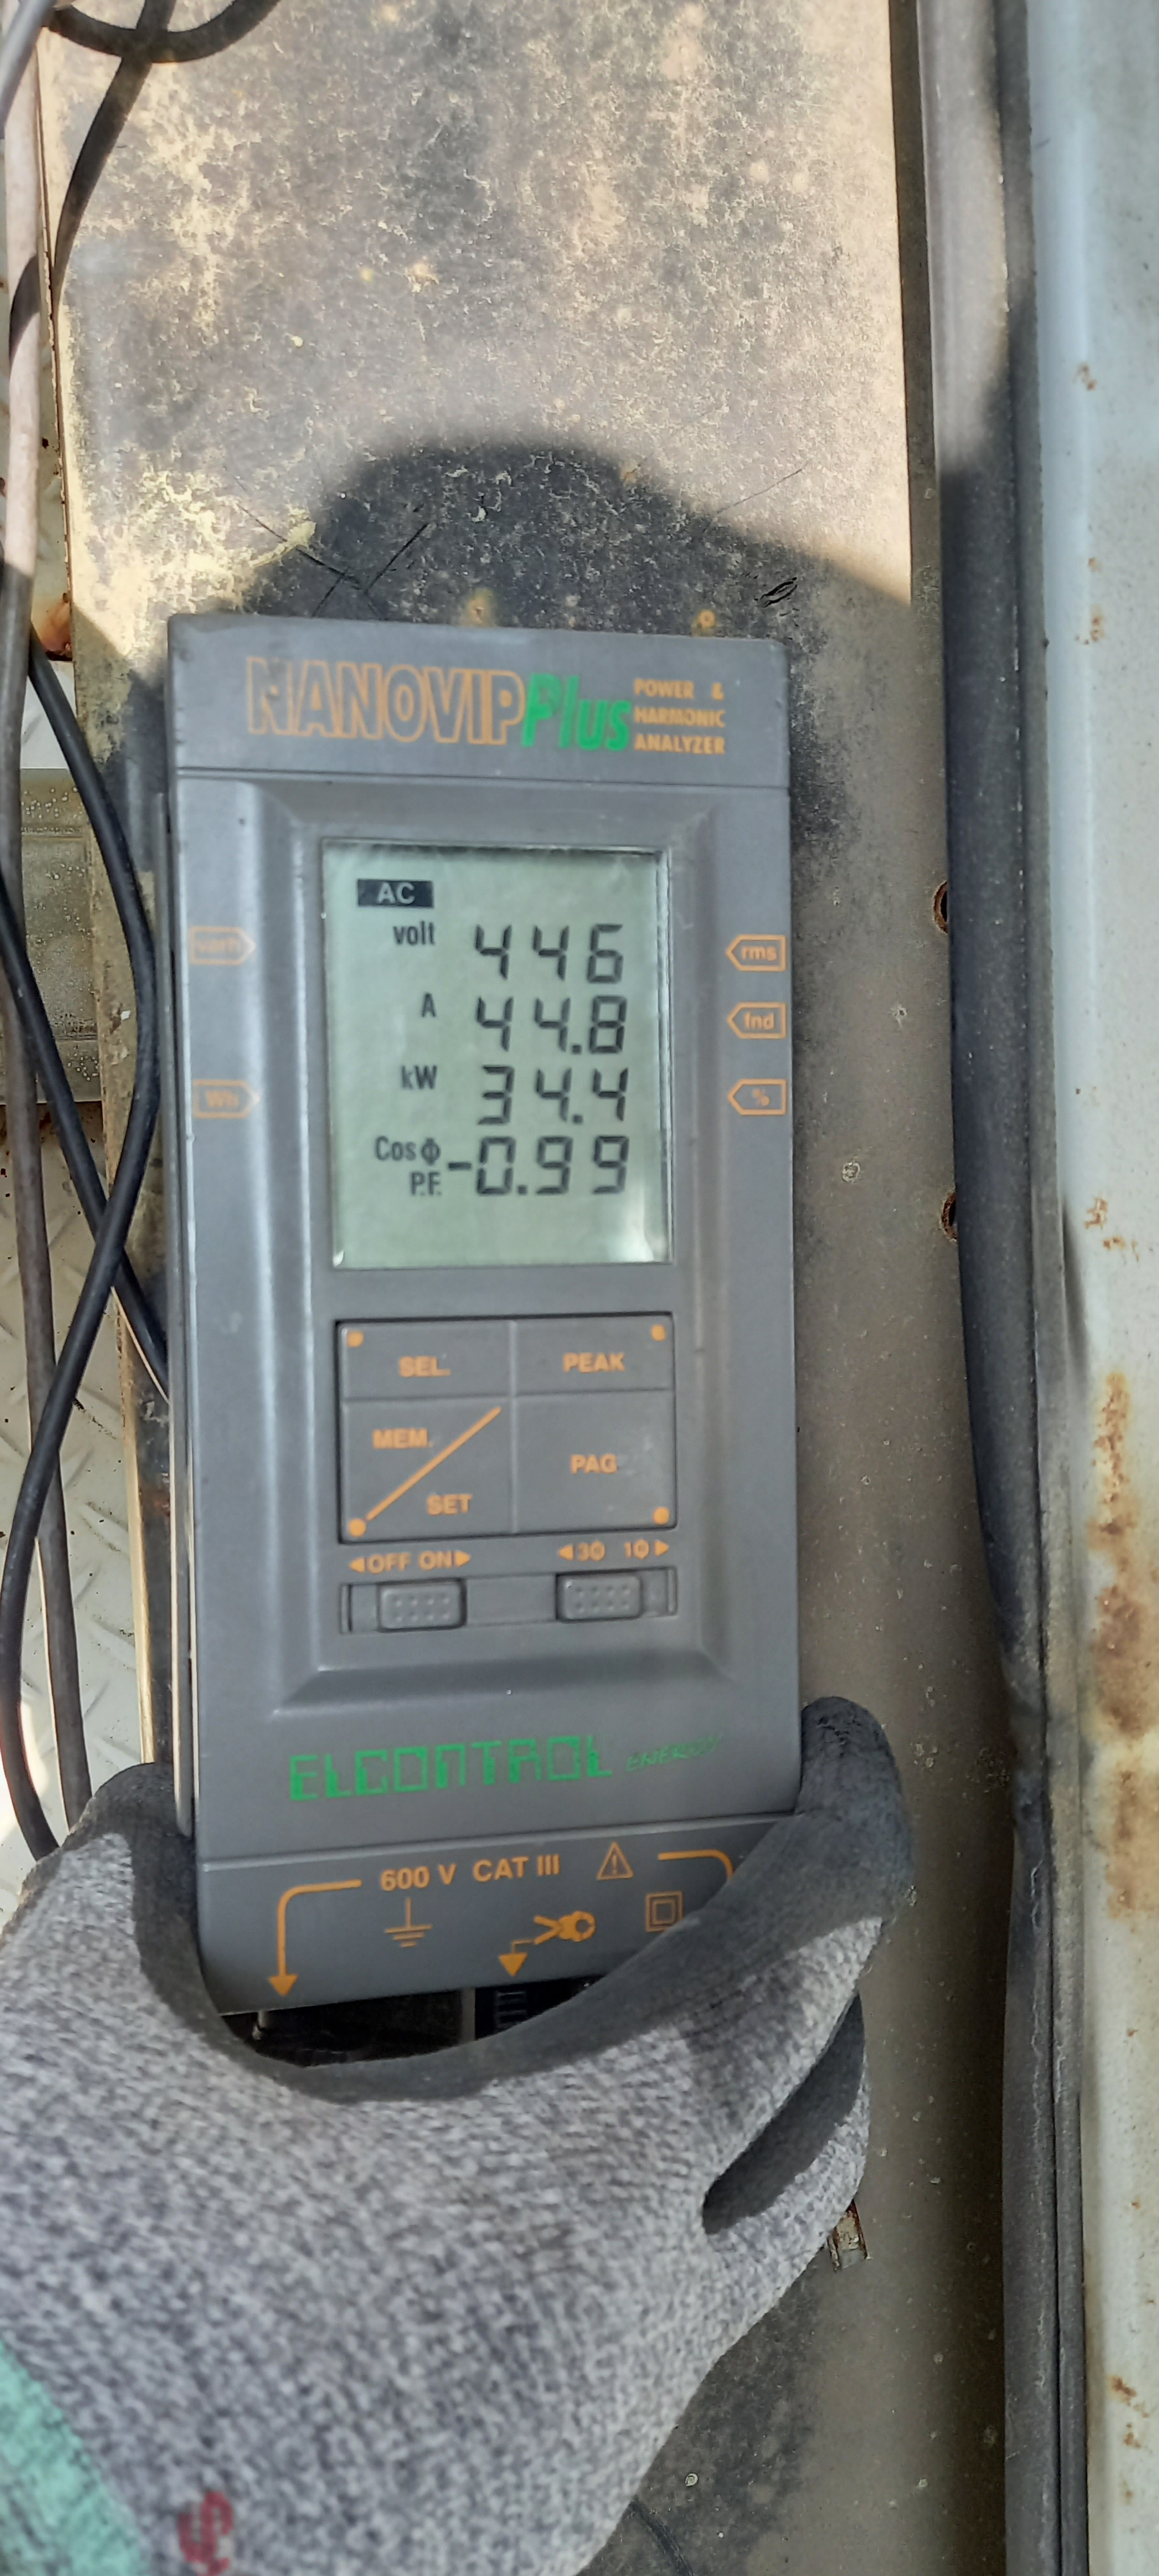monitoring: (289, 816, 704, 1316)
